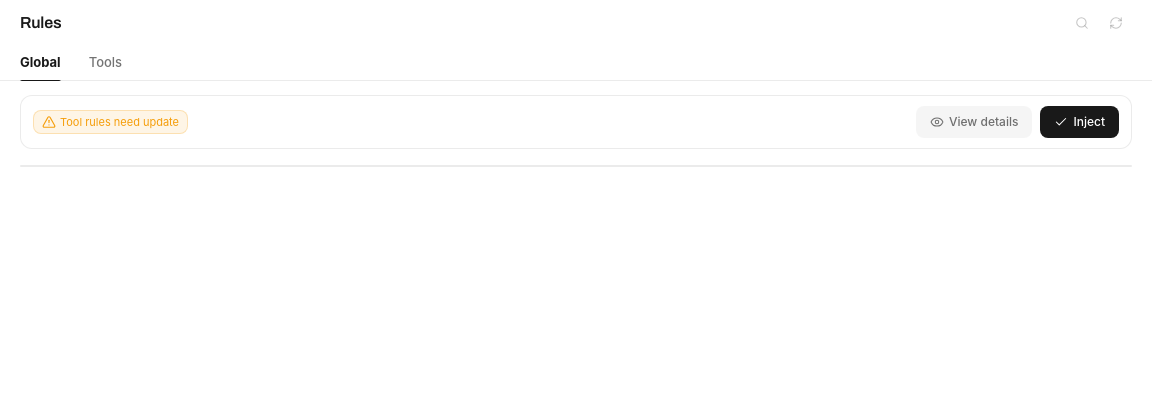
Test: RulesModule managed state › shows pending updates as an expandable diff
Click the button "View details" at (974, 122), box [916,106,1032,138]
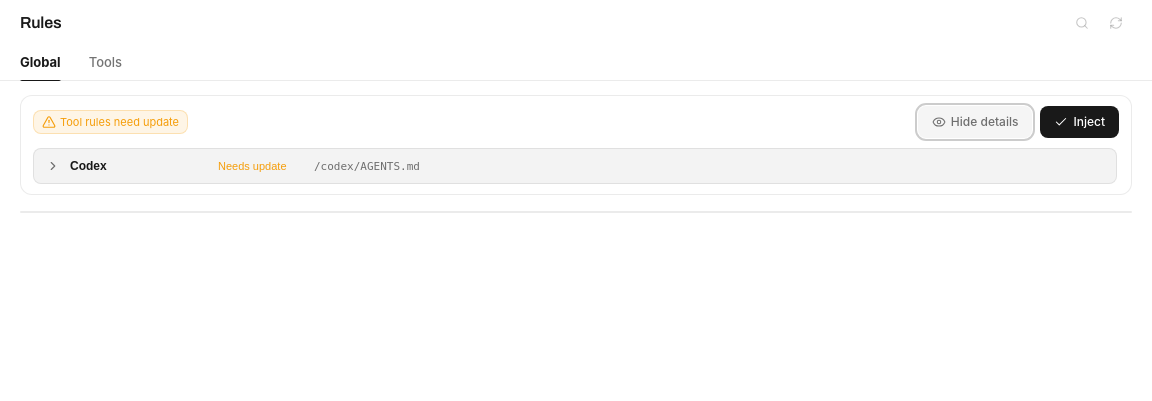
Click the button "Codex Needs update /codex/AGENTS.md" at (88, 166), box [34,149,1116,183]
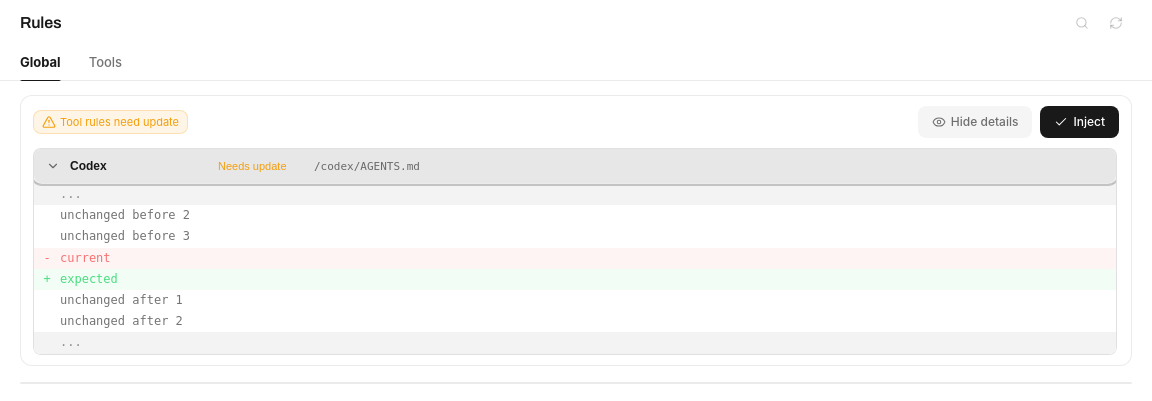
Check: the text "expected" is shown, box [60,270,126,289]
